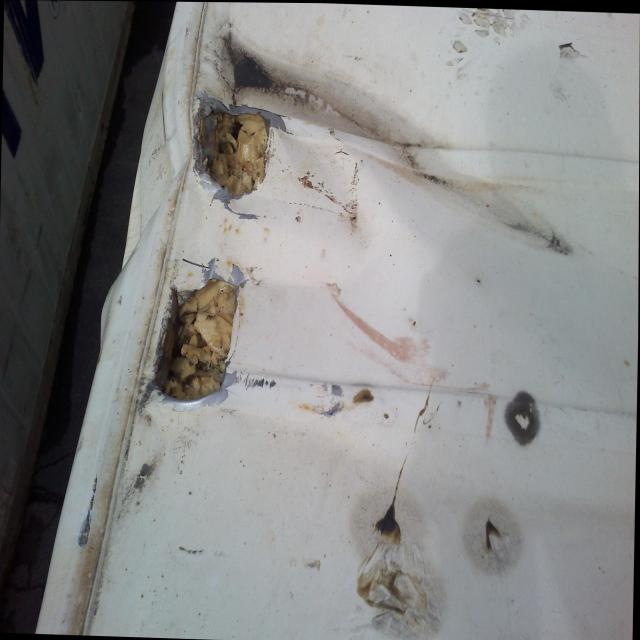hole: (155, 267, 244, 406), (192, 93, 274, 203)
